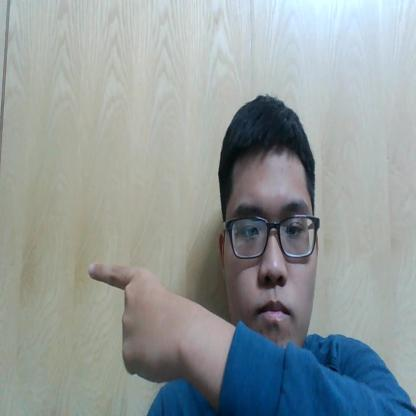right: (76, 244, 211, 394)
